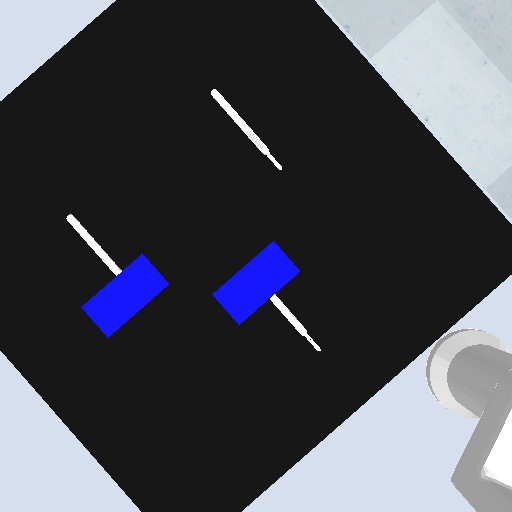bisturi: (208, 84, 286, 177), (62, 211, 125, 279), (268, 291, 324, 355)
